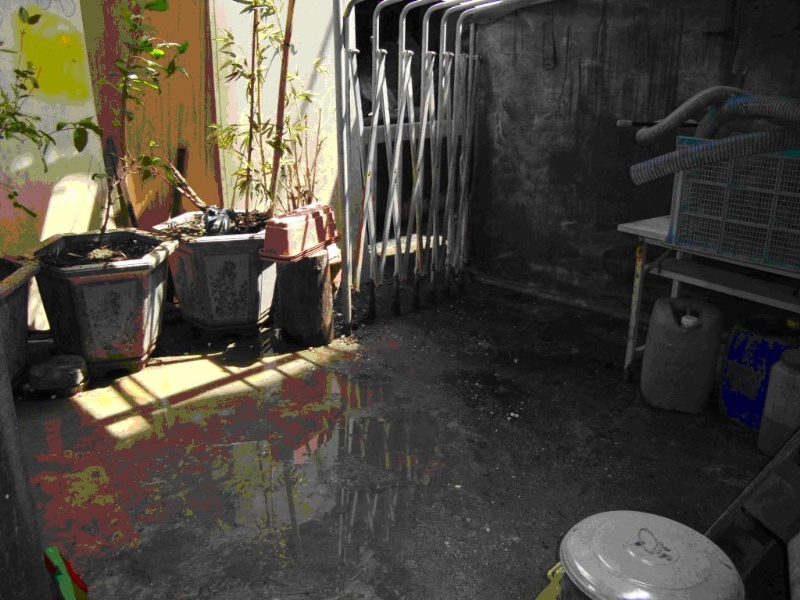box: (259, 200, 343, 265)
bucket: (641, 296, 721, 413)
